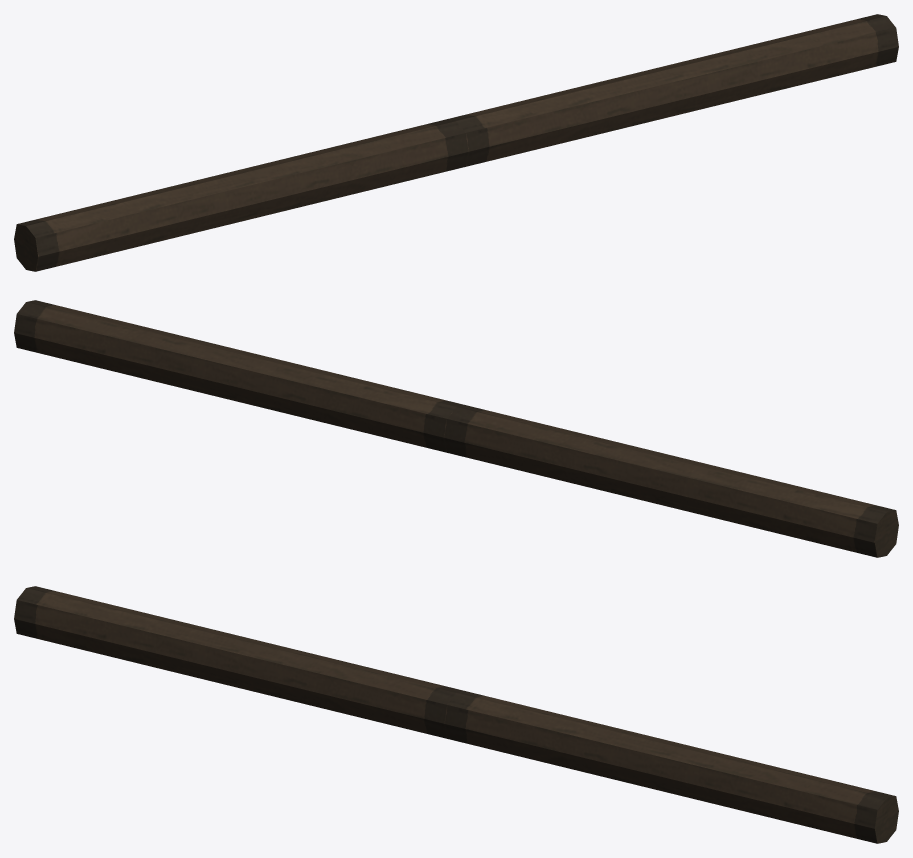
Rendered from support_beam_hoz.fbx.
The picture shows the model from 3 angles, top to bottom: view 1: azimuth 30°, elevation 25°; view 2: azimuth 150°, elevation 25°; view 3: azimuth 330°, elevation 25°; orthographic projection.
Visible parts, largest first — view 1: Cube.020; view 2: Cube.020; view 3: Cube.020.
Part boxes in pixels (x1,y1,x2,y2): Cube.020: (14, 14, 898, 271); Cube.020: (14, 300, 898, 557); Cube.020: (14, 586, 898, 843).
Bounding box in the file's own units: 3283 × 160 × 160.
